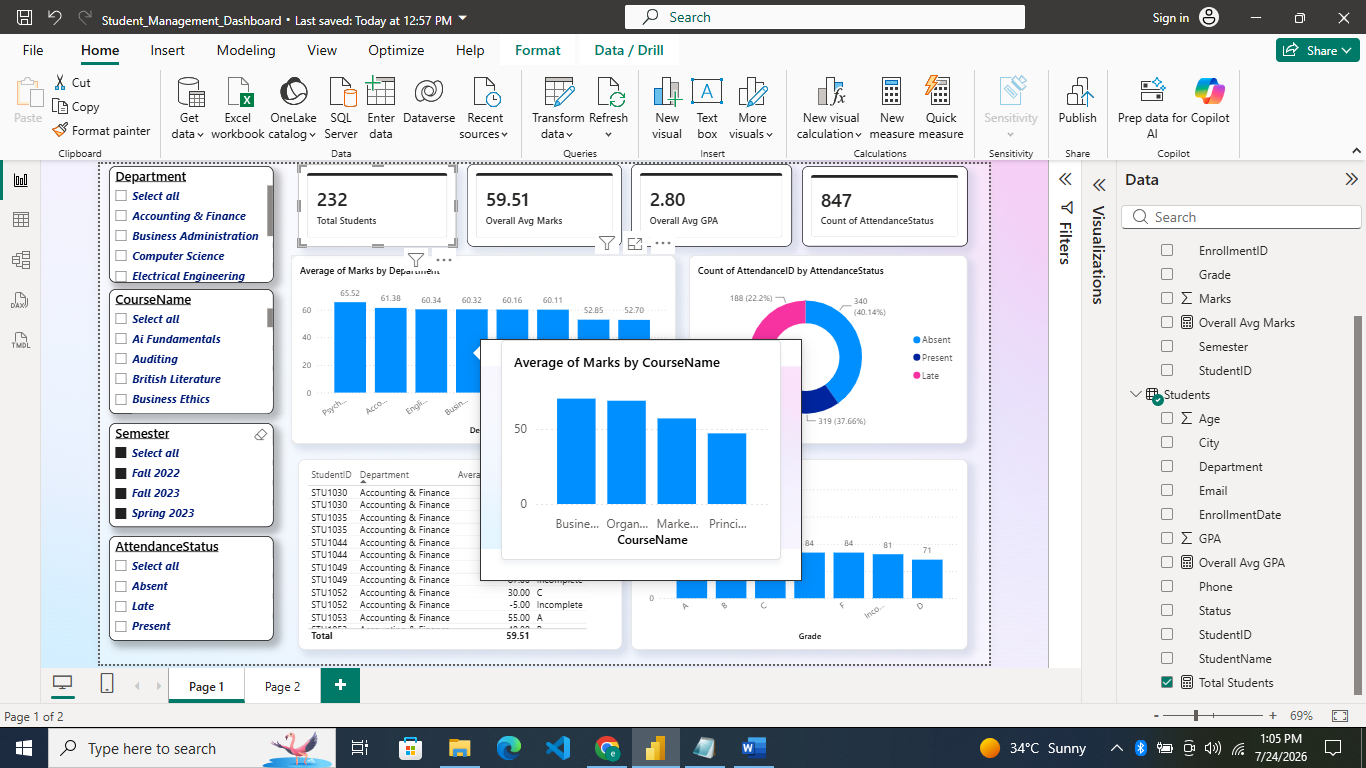

The dashboard page shown, as its layout file describes it:
{"tool":"powerbi","page":{"name":"Page 1","canvas":[1280,720],"ordinal":0},"visuals":[{"type":"cardVisual","fields":{"Data":["Students.Total Students"]},"box":[275,89.3,244.8,108],"z":0},{"type":"cardVisual","fields":{"Data":["Enrollments_Marks.Overall Avg Marks"]},"box":[531.4,90.7,233.3,108],"z":1000},{"type":"cardVisual","fields":{"Data":["Students.Overall Avg GPA"]},"box":[783.4,90.7,224.6,108],"z":2000},{"type":"cardVisual","fields":{"Data":["CountNonNull(Attendance.AttendanceStatus)"]},"box":[1026.7,92.2,253.4,105.1],"z":3000},{"type":"slicer","fields":{"Values":["Courses.Department"]},"box":[13,102.2,237.6,136.8],"z":4000},{"type":"slicer","fields":{"Values":["Courses.CourseName"]},"box":[13,253.4,237.6,149.8],"z":5000},{"type":"slicer","fields":{"Values":["Enrollments_Marks.Semester"]},"box":[13,424.8,236.2,138.2],"z":6000},{"type":"slicer","fields":{"Values":["Attendance.AttendanceStatus"]},"box":[13,576,237.6,123.8],"z":7000},{"type":"clusteredColumnChart","fields":{"Category":["Courses.Department"],"Y":["Avg(Enrollments_Marks.Marks)"]},"box":[275,203,561.6,249.1],"z":8000},{"type":"donutChart","fields":{"Category":["Attendance.AttendanceStatus"],"Y":["CountNonNull(Attendance.AttendanceID)"]},"box":[848.2,203,427.7,249.1],"z":9000},{"type":"tableEx","fields":{"Values":["Students.StudentID","Students.Department","Avg(Enrollments_Marks.Marks)","Enrollments_Marks.Grade"]},"box":[285.1,456.5,468,243.4],"z":10000},{"type":"clusteredColumnChart","fields":{"Category":["Enrollments_Marks.Grade"],"Y":["CountNonNull(Enrollments_Marks.StudentID)"]},"box":[760.3,456.5,515.5,243.4],"z":11000},{"type":"shape","box":[0,0,1280.2,87.8],"z":12000},{"type":"textbox","box":[285.4,10.4,990.1,68.4],"z":12001}]}

Visuals, with their boxes on the page's 1280x720 design canvas (x1, y1, x2, y2). These are canvas units, not pixel positions in the 1366x768 screenshot, which may show the page scaled, cropped or inside an application window:
cardVisual - Students.Total Students: detection(275, 89, 520, 197)
cardVisual - Enrollments_Marks.Overall Avg Marks: detection(531, 91, 765, 199)
cardVisual - Students.Overall Avg GPA: detection(783, 91, 1008, 199)
cardVisual - CountNonNull(Attendance.AttendanceStatus): detection(1027, 92, 1280, 197)
slicer - Courses.Department: detection(13, 102, 251, 239)
slicer - Courses.CourseName: detection(13, 253, 251, 403)
slicer - Enrollments_Marks.Semester: detection(13, 425, 249, 563)
slicer - Attendance.AttendanceStatus: detection(13, 576, 251, 700)
clusteredColumnChart - Courses.Department x Avg(Enrollments_Marks.Marks): detection(275, 203, 837, 452)
donutChart - Attendance.AttendanceStatus x CountNonNull(Attendance.AttendanceID): detection(848, 203, 1276, 452)
tableEx - Students.StudentID x Students.Department: detection(285, 456, 753, 700)
clusteredColumnChart - Enrollments_Marks.Grade x CountNonNull(Enrollments_Marks.StudentID): detection(760, 456, 1276, 700)
shape: detection(0, 0, 1280, 88)
textbox: detection(285, 10, 1276, 79)
